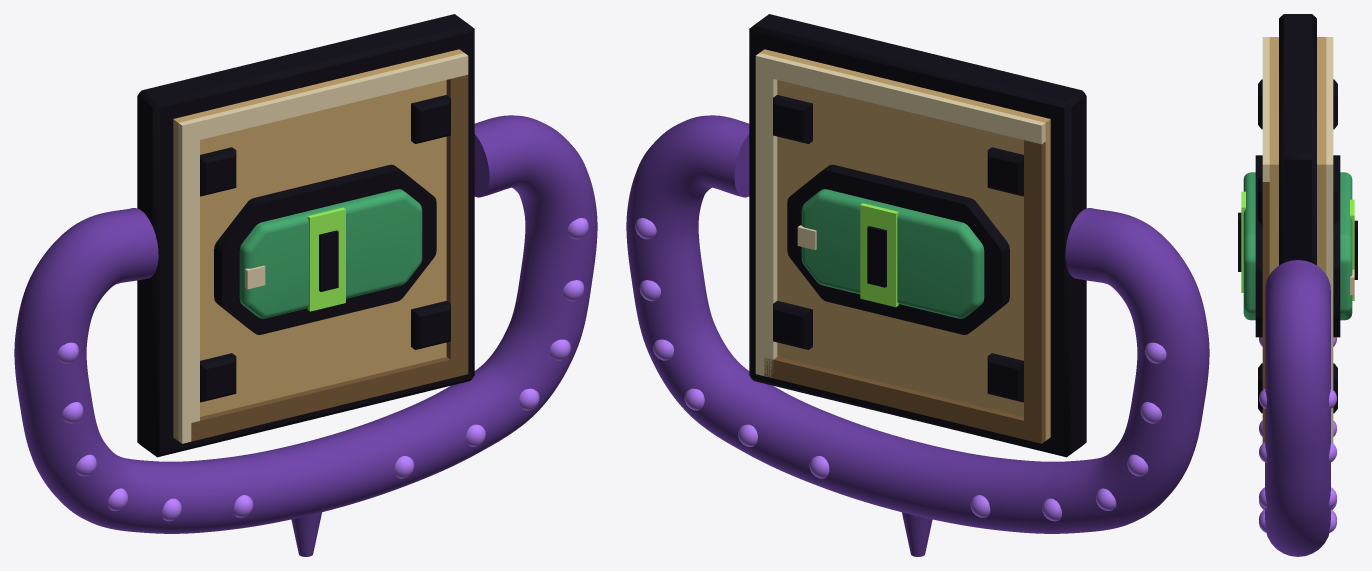
File: eye_plaque.glb
The picture shows the model from 3 angles, left to right: view 1: azimuth 30°, elevation 25°; view 2: azimuth 150°, elevation 25°; view 3: azimuth 270°, elevation 25°; orthographic projection. The views are drawn at different scales.
Visible parts, largest first — view 1: tentacle, board, plaque, eyeball, eye_rim, bevel_top, bevel_left, bevel_bottom, bevel_right, iris, rivet1, rivet3 (+4 smaller); view 2: tentacle, board.003, plaque, eyeball.001, eye_rim.001, bevel_top.001, bevel_bottom.001, bevel_left.001, bevel_right.001, iris.001, rivet0.001, rivet2.001 (+4 smaller); view 3: tentacle, plaque, board, board.003, eyeball, eyeball.001, eye_rim, eye_rim.001, bevel_left.001, bevel_right, bevel_top, bevel_top.001 (+10 smaller).
Part boxes in pixels (bbox=[...]): tentacle: bbox=[14, 115, 597, 533]; board: bbox=[173, 49, 463, 440]; plaque: bbox=[137, 14, 474, 457]; eyeball: bbox=[239, 189, 422, 318]; eye_rim: bbox=[214, 164, 436, 334]; bevel_top: bbox=[178, 53, 468, 144]; bevel_left: bbox=[178, 140, 199, 443]; bevel_bottom: bbox=[191, 355, 468, 441]; bevel_right: bbox=[446, 74, 468, 359]; iris: bbox=[307, 207, 345, 311]; rivet1: bbox=[411, 95, 450, 143]; rivet3: bbox=[411, 300, 450, 349]; tentacle: bbox=[626, 115, 1209, 533]; board.003: bbox=[760, 49, 1050, 440]; plaque: bbox=[749, 14, 1086, 457]; eyeball.001: bbox=[801, 189, 984, 318]; eye_rim.001: bbox=[787, 164, 1009, 334]; bevel_top.001: bbox=[755, 53, 1045, 144]; bevel_bottom.001: bbox=[764, 357, 1045, 443]; bevel_left.001: bbox=[755, 74, 777, 377]; bevel_right.001: bbox=[1024, 140, 1045, 424]; iris.001: bbox=[860, 203, 898, 307]; rivet0.001: bbox=[773, 95, 812, 143]; rivet2.001: bbox=[773, 300, 812, 349]; tentacle: bbox=[1265, 260, 1330, 556]; plaque: bbox=[1279, 14, 1316, 265]; board: bbox=[1269, 37, 1278, 274]; board.003: bbox=[1317, 37, 1326, 274]; eyeball: bbox=[1243, 172, 1255, 320]; eyeball.001: bbox=[1340, 172, 1352, 320]; eye_rim: bbox=[1255, 155, 1262, 337]; eye_rim.001: bbox=[1333, 155, 1340, 337]; bevel_left.001: bbox=[1326, 182, 1333, 442]; bevel_right: bbox=[1262, 182, 1269, 438]; bevel_top: bbox=[1262, 37, 1269, 181]; bevel_top.001: bbox=[1326, 37, 1333, 181].
Size of the model in its own units: 0.1282 by 0.106 by 0.0254.
